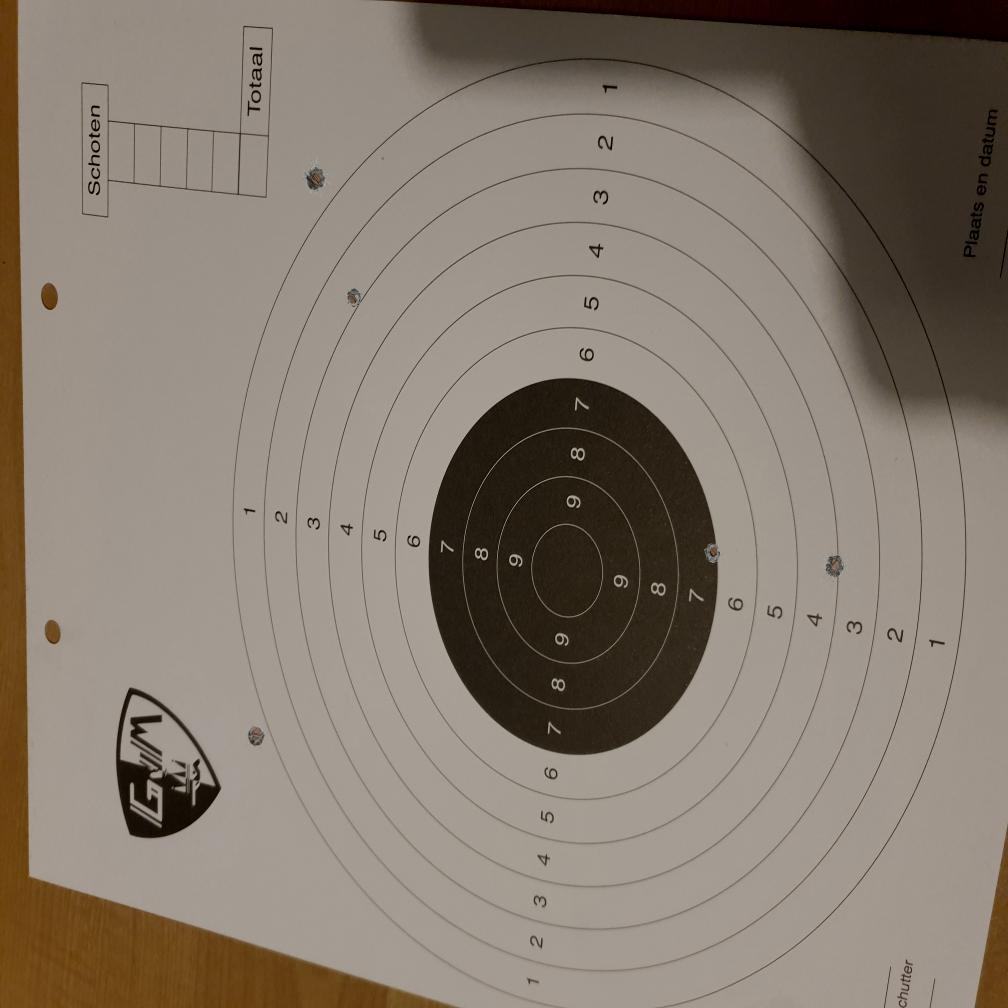0: (302, 161, 330, 196), (246, 723, 265, 751)
3: (343, 281, 364, 312)
4: (822, 550, 846, 582)
7: (702, 537, 720, 568)
Target: (233, 56, 970, 1002)
black_contour: (428, 375, 717, 759)
